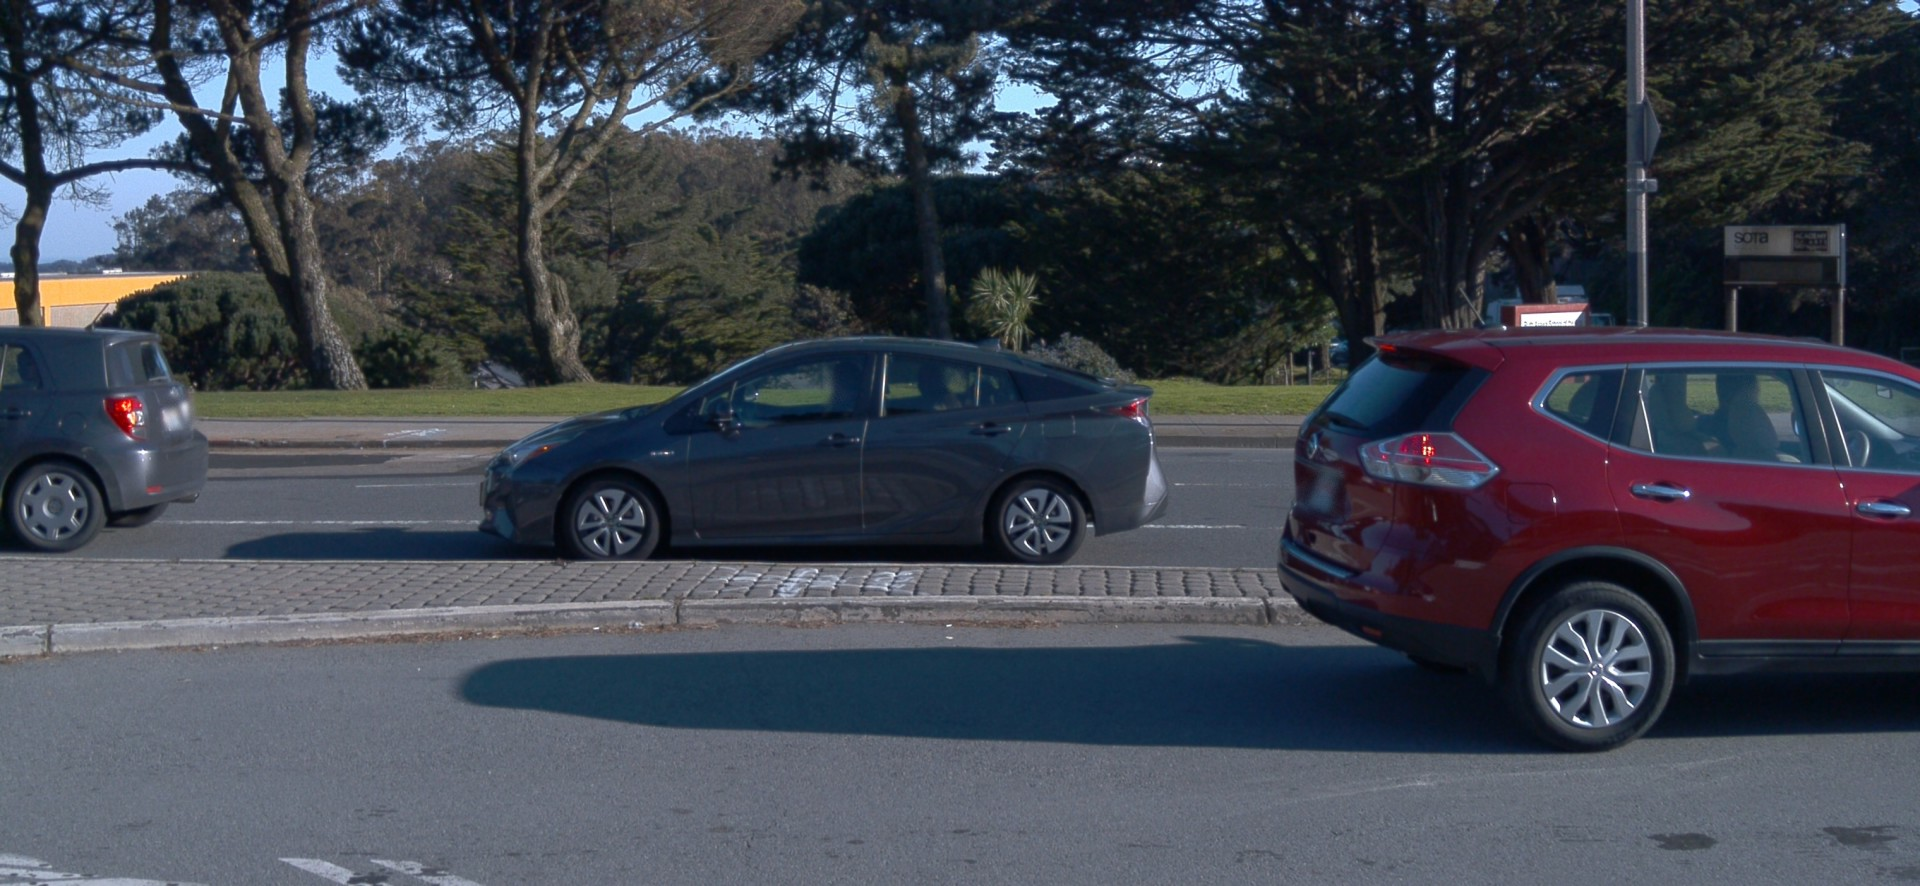TYPE_VEHICLE: (1277, 320, 1920, 755), (475, 332, 1169, 567), (1, 321, 213, 554), (1480, 287, 1618, 330), (1330, 338, 1352, 367), (1382, 326, 1416, 340), (1797, 335, 1828, 342)
